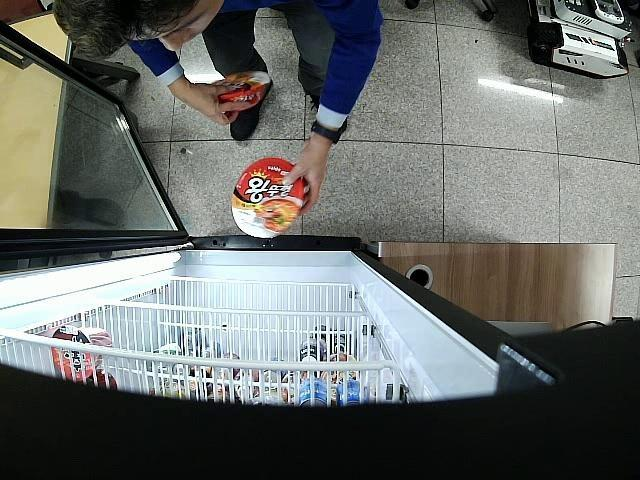10_wangTtukkeong: (232, 158, 308, 238), (213, 72, 271, 108)
